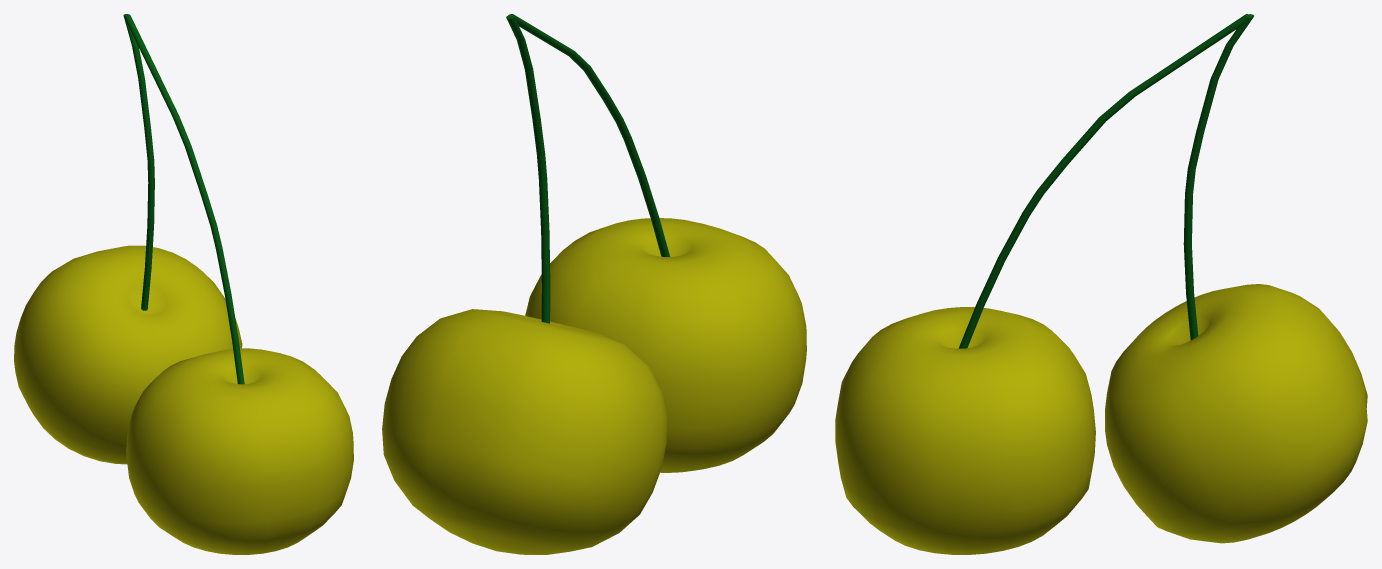
The model's file is yellow_cherry.fbx.
3 views of the same model, side by side, from view 1: azimuth 30°, elevation 25°; view 2: azimuth 150°, elevation 25°; view 3: azimuth 270°, elevation 25° (orthographic). The views are drawn at different scales.
Parts seen in each view (by area): view 1: Sphere.000; view 2: Sphere.000; view 3: Sphere.000.
Boxes of the visible parts, x1=… form: Sphere.000: x1=14, y1=14, x2=353, y2=554; Sphere.000: x1=382, y1=14, x2=806, y2=554; Sphere.000: x1=835, y1=14, x2=1367, y2=554.
Size of the model in its own units: 216 by 463 by 423.
